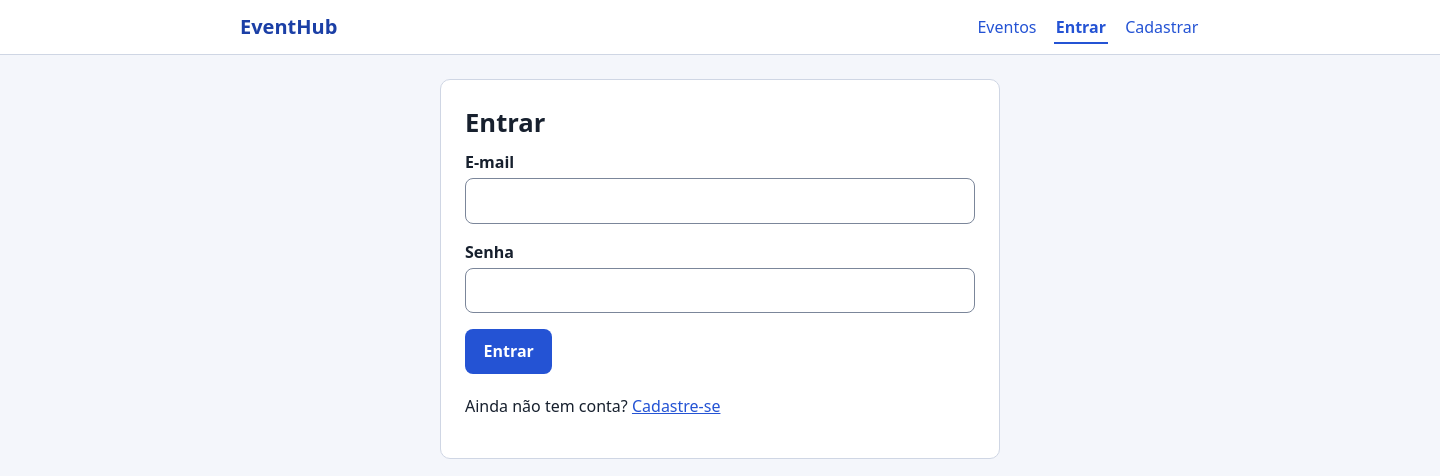
Test: Meus certificados › certificado antigo sem event_id: não consulta Eventos e não mostra link
In the field labelled "E-mail": (720, 201) [465,178,975,224], type "maria@example.com"
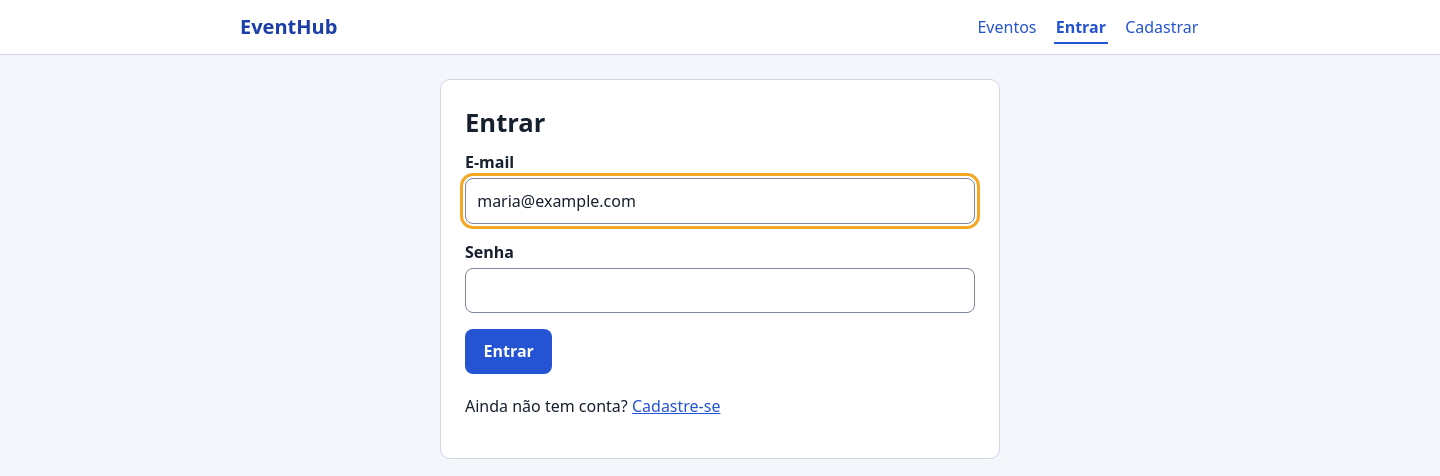
In the password field labelled "Senha": (720, 290) [465,268,975,313], type "senha-forte-123"
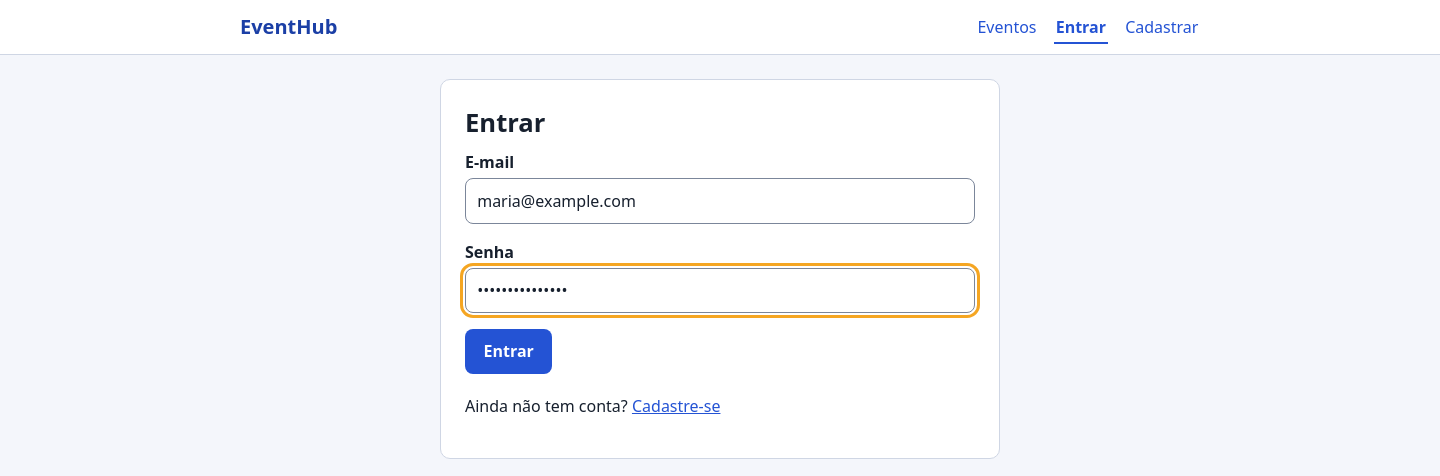
Click the button "Entrar": click(509, 351) [465,329,552,374]
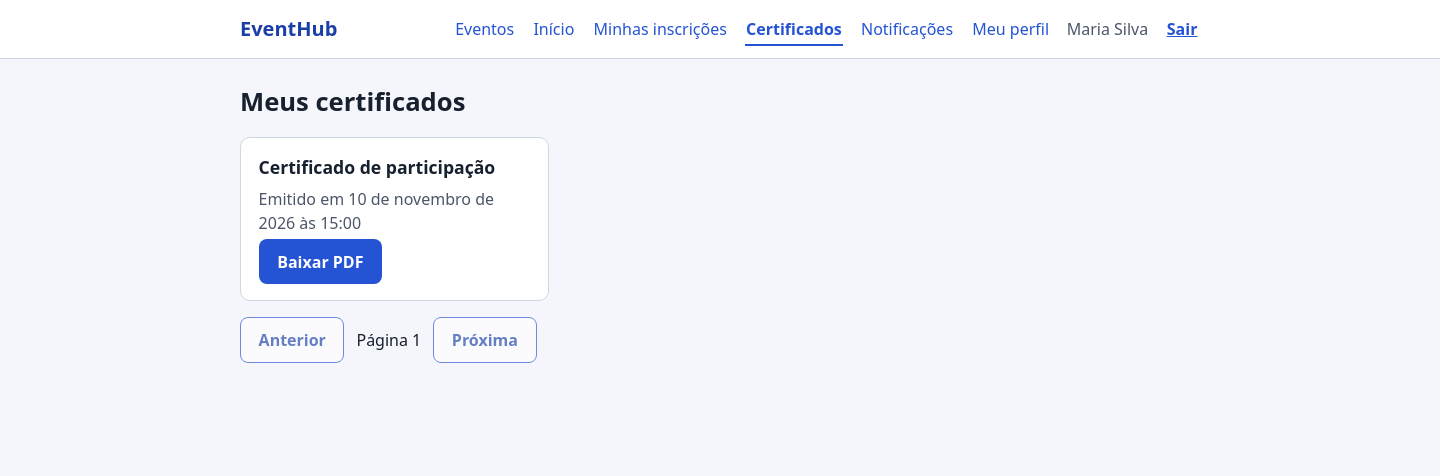
Now the heading "Certificado de participação" is shown, box [259,154,531,181]
